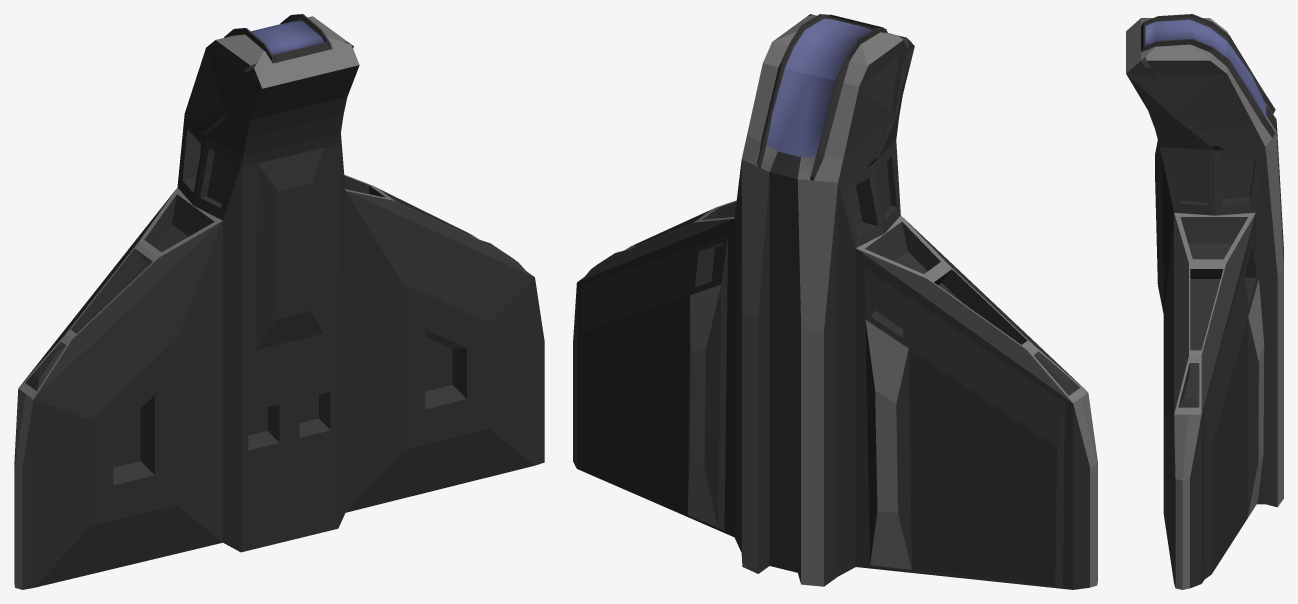
File: Ships.fbx
The picture shows the model from 3 angles, left to right: view 1: azimuth 30°, elevation 25°; view 2: azimuth 150°, elevation 25°; view 3: azimuth 270°, elevation 25°; orthographic projection. The views are drawn at different scales.
Parts seen in each view (by area): view 1: Cube; view 2: Cube; view 3: Cube.
Boxes of the visible parts, bbox=[...] form: Cube: bbox=[14, 14, 544, 589]; Cube: bbox=[573, 14, 1097, 589]; Cube: bbox=[1126, 14, 1283, 589].
Bounding box in the file's own units: 1086 × 1011 × 312.
